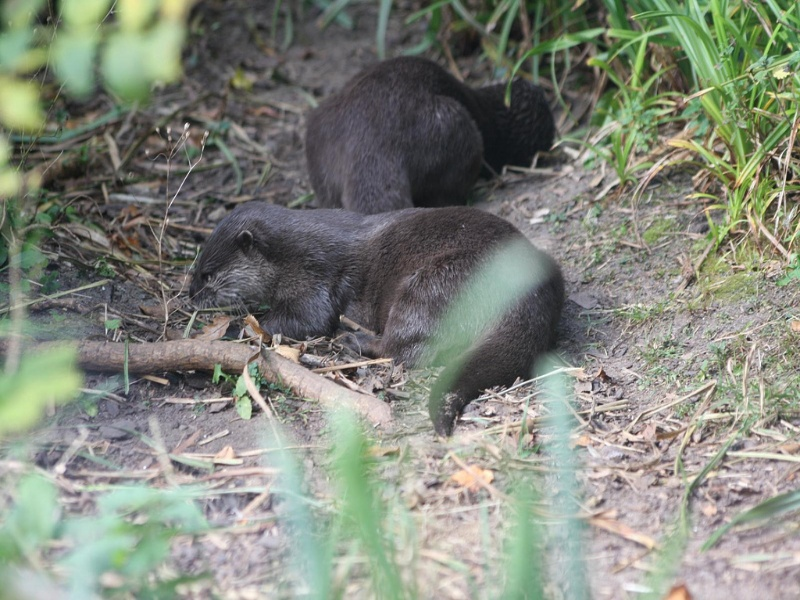minkish: (179, 197, 591, 434), (306, 59, 561, 219)
